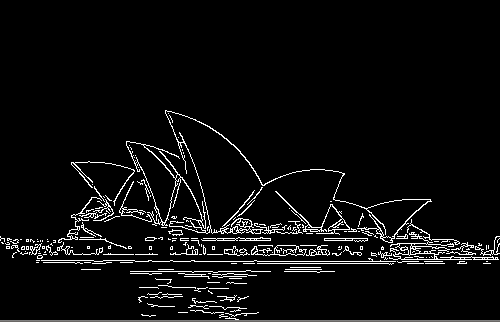opera house: (58, 103, 439, 242)
